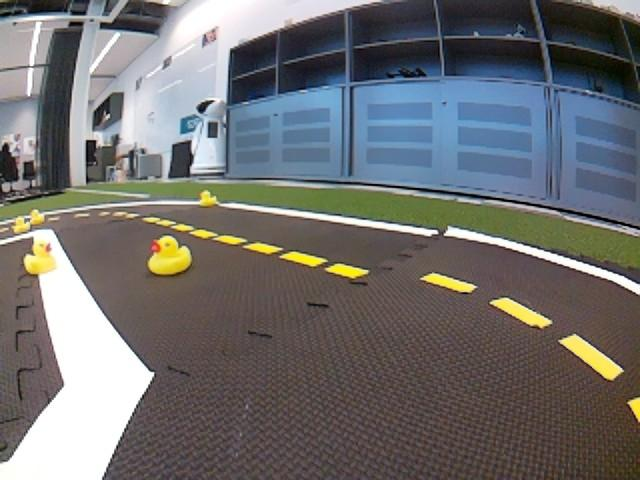Duckies: (146, 235, 193, 275), (23, 238, 56, 275), (198, 191, 217, 206), (12, 217, 29, 233), (29, 210, 45, 224)
